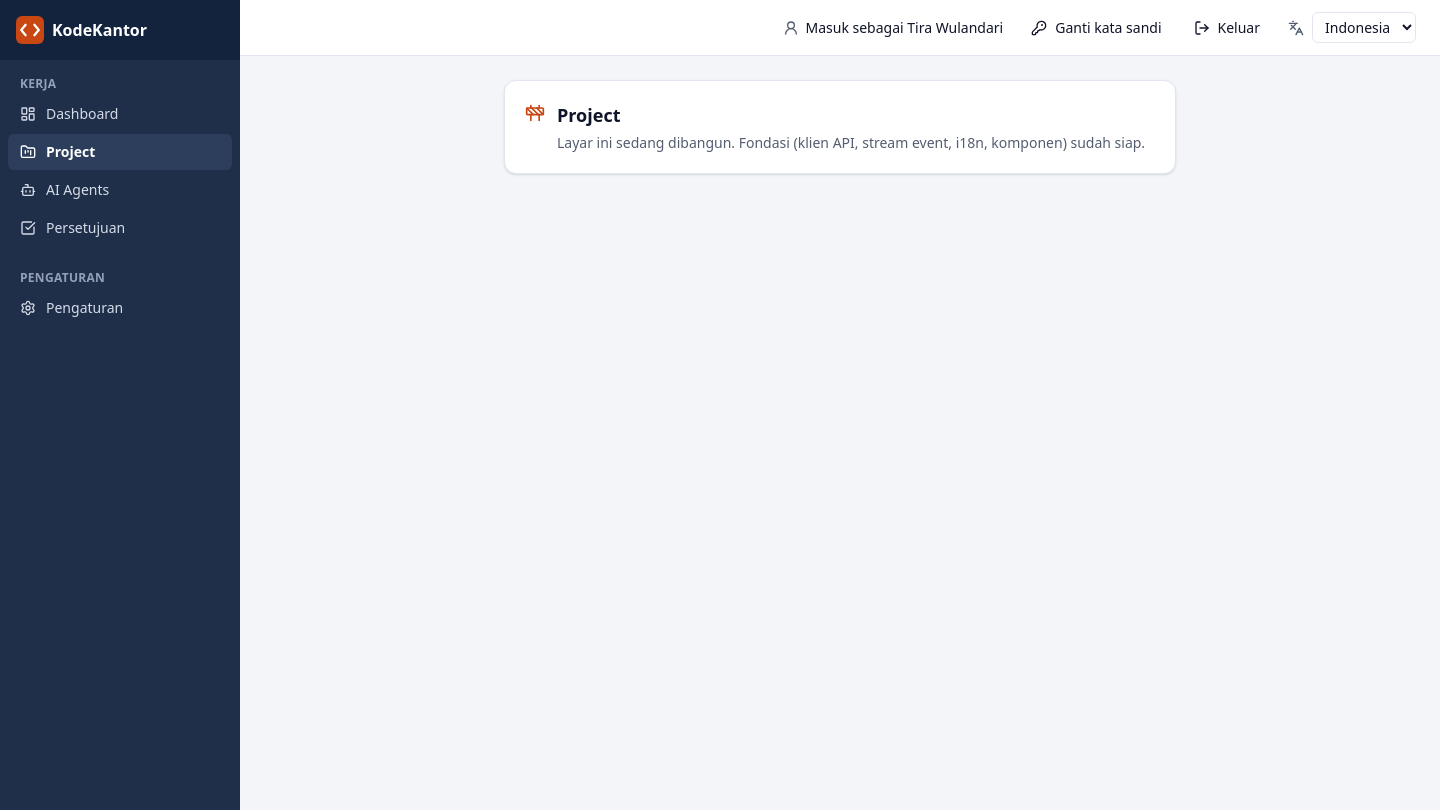
ChangePasswordDialog › says the current password is wrong on 403, and stays signed in
Step 1. Click the button "Ganti kata sandi" → (1096,28), box 1019,12 -> 1174,44
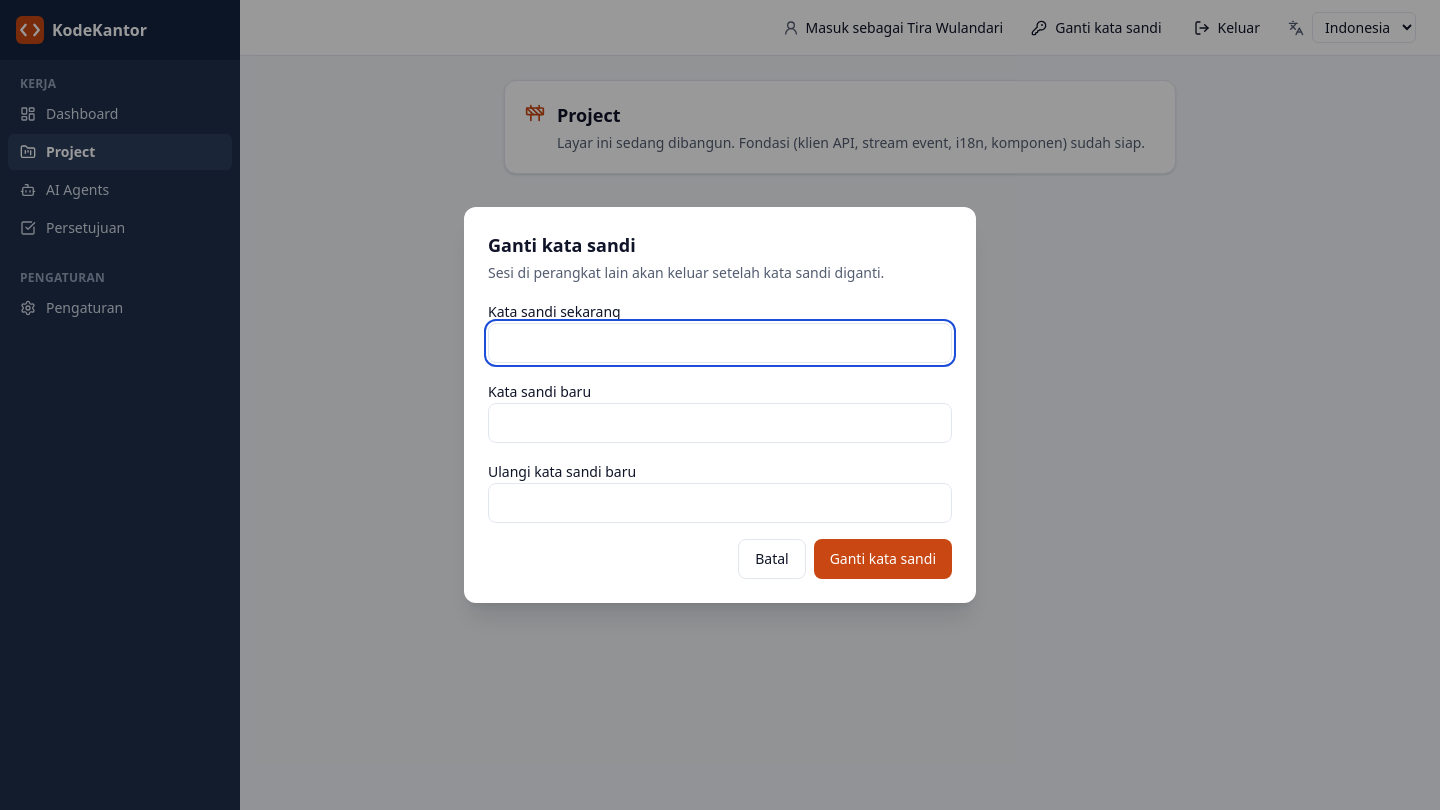
Step 2. Type "kata-sandi-lama!" into the password field labelled "Kata sandi sekarang" → (720,343), box 488,323 -> 952,363
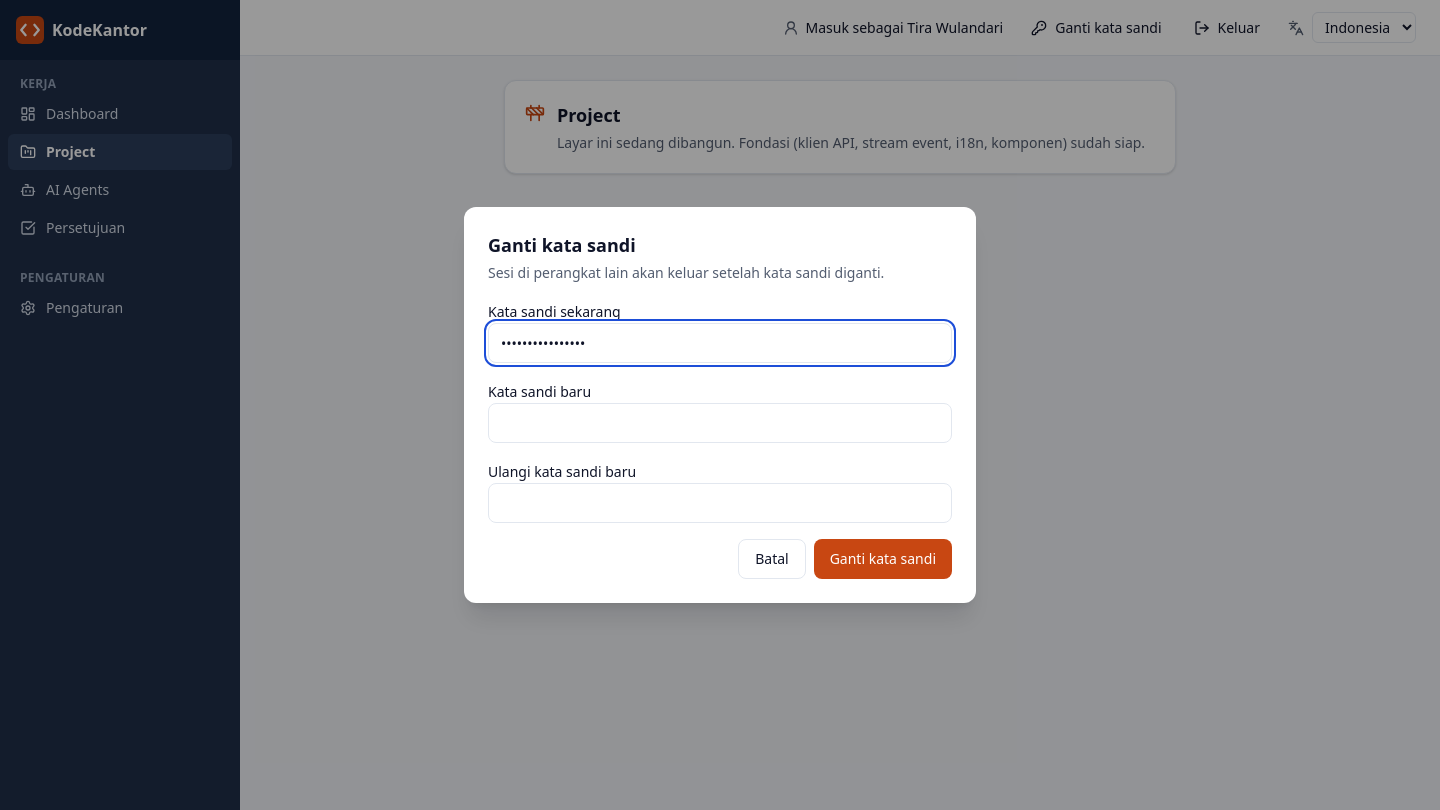
Step 3. Type "kata-sandi-baru-123" into the password field labelled "Kata sandi baru" → (720,423), box 488,403 -> 952,443
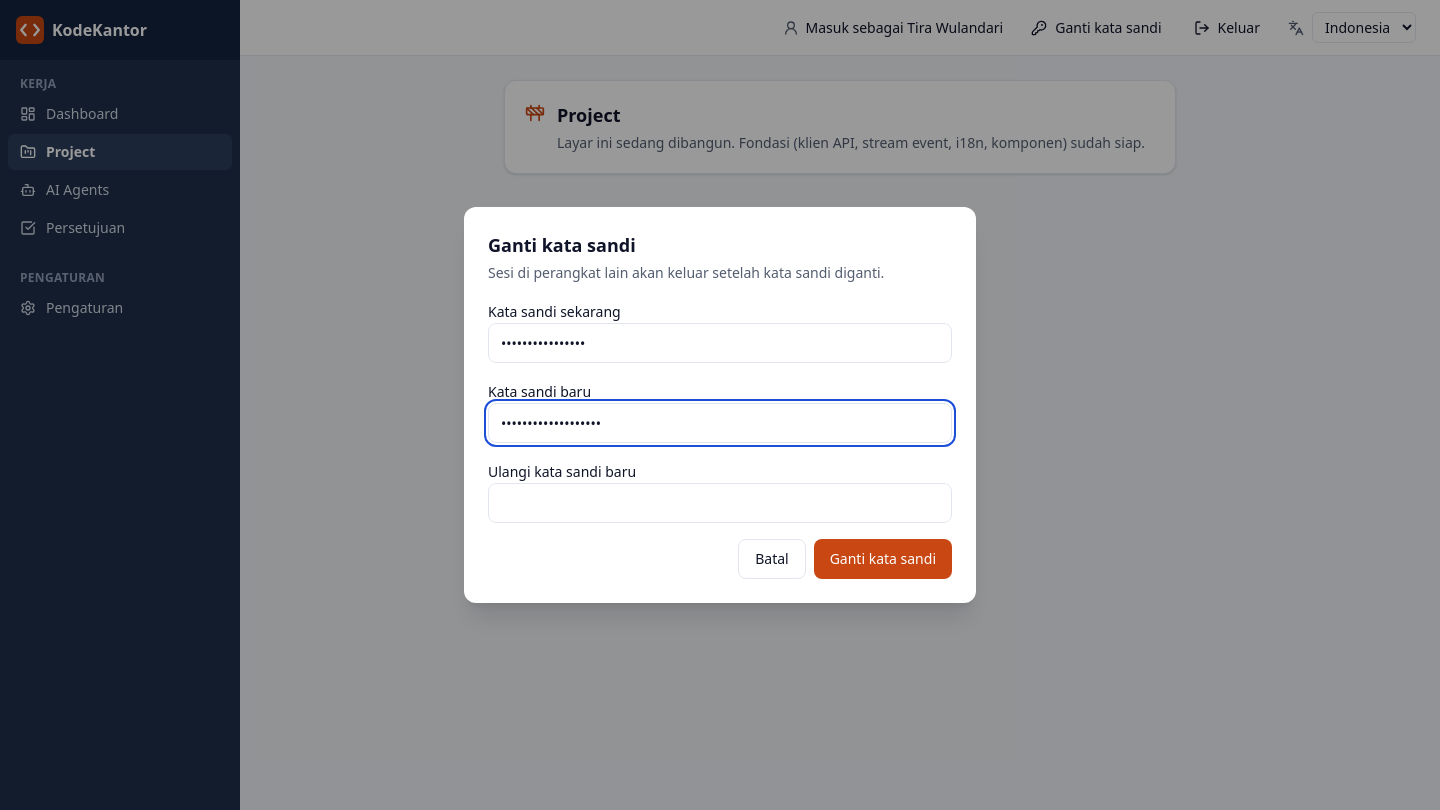
Step 4. Type "kata-sandi-baru-123" into the password field labelled "Ulangi kata sandi baru" → (720,503), box 488,483 -> 952,523
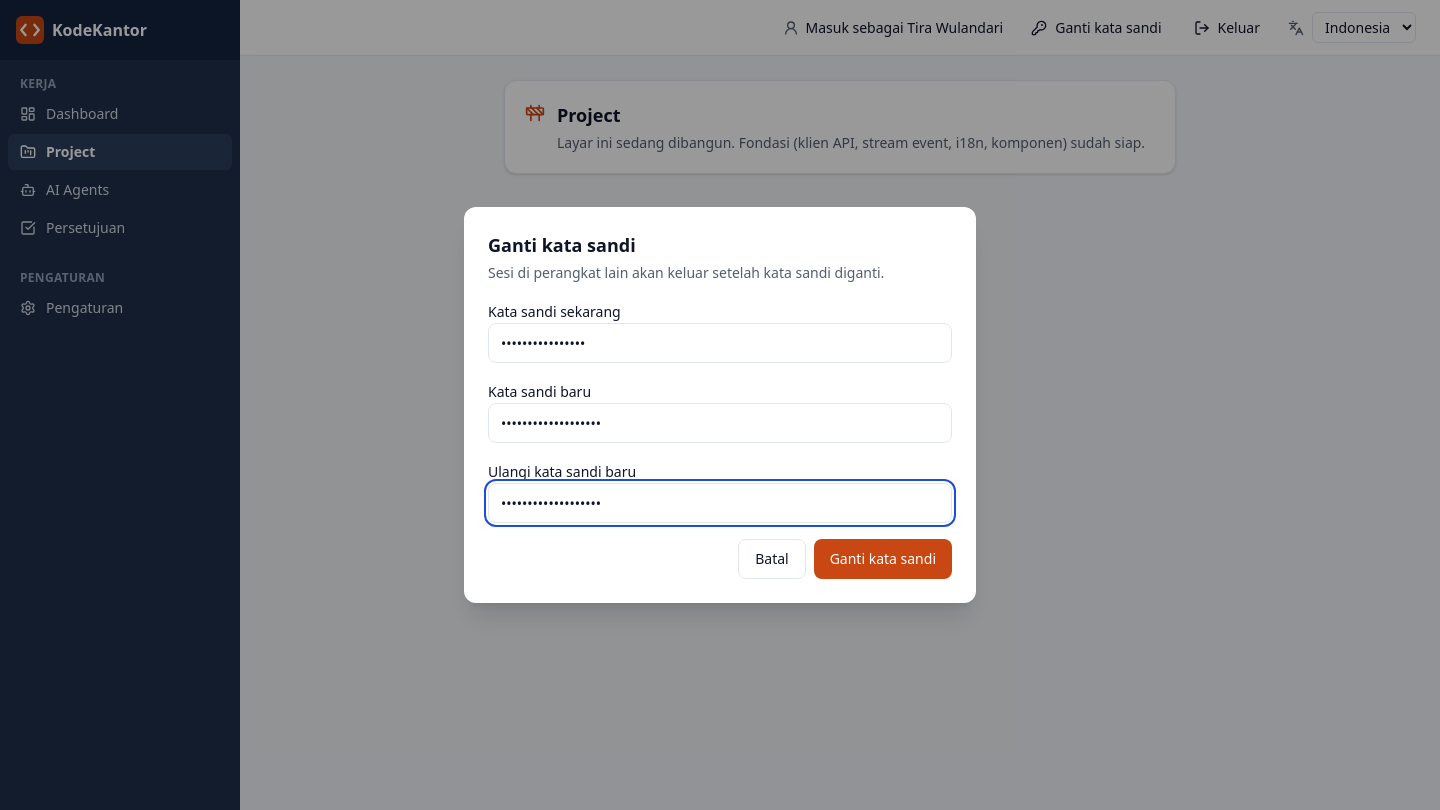
Step 5. Click the button "Ganti kata sandi" → (883,559), box 814,539 -> 952,579
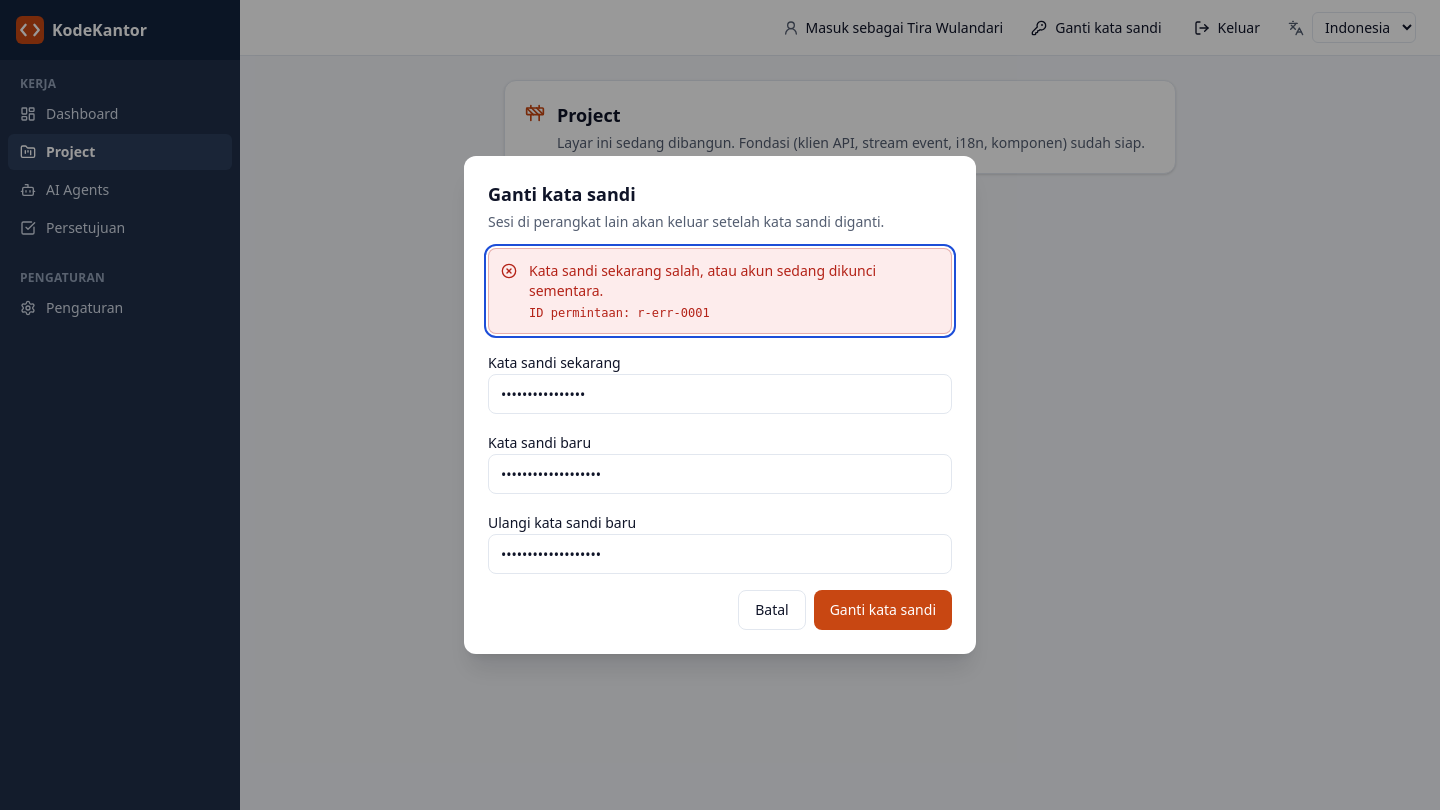
Check: the text "Kata sandi sekarang salah, atau akun sedang dikunci sementara." is shown, box 529,261 -> 876,300
